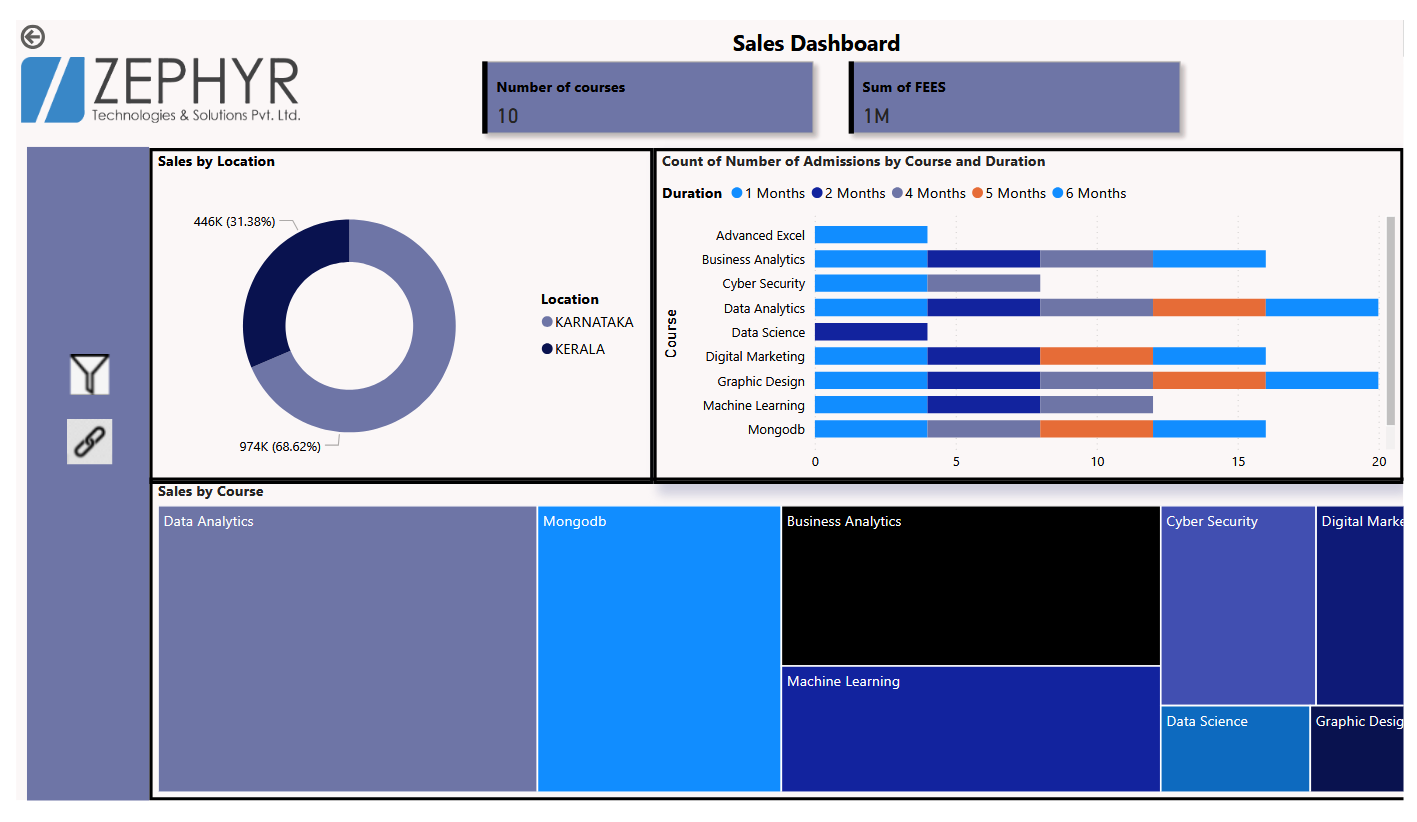

This screenshot's page, from the dashboard's own definition file:
{"tool":"powerbi","page":{"name":"Page 2","canvas":[1280,720],"ordinal":1},"visuals":[{"type":"treemap","title":"Sales by Course","fields":{"Group":["Admission.Course"],"Values":["Sum(Admission.FEES)"]},"box":[122.9,422,1199.1,297.9],"z":0},{"type":"donutChart","title":" Sales by Location","fields":{"Category":["Sheet1.Location"],"Y":["Sum(Admission.FEES)"]},"box":[122.9,117.9,465.5,310.3],"z":1000},{"type":"image","box":[0,9.9,266.9,108],"z":2000},{"type":"barChart","fields":{"Category":["Admission.Course"],"Y":["Count(Admissions by Course and Duration.Number of Admissions)"],"Series":["Admission.Duration"]},"box":[588.4,117.9,691.4,310.3],"z":3000},{"type":"shape","box":[588.4,0,300.4,41],"z":4000},{"type":"cardVisual","fields":{"Data":["Admission.Number of courses","Sum(Admission.FEES)"]},"box":[413.3,21.1,679,100.5],"z":5000},{"type":"shape","box":[10,116.7,113.3,780],"z":6000},{"type":"actionButton","box":[44.7,294.2,45.9,65.8],"z":7000},{"type":"actionButton","box":[43.4,356.2,49.7,65.8],"z":8000},{"type":"actionButton","box":[0,0,43.4,31.4],"z":10000}]}

Visuals, with their boxes in screenshot pixels (x1, y1, x2, y2):
"Sales by Course" treemap: l=149, t=475, r=1416, b=801
" Sales by Location" donutChart: l=149, t=143, r=657, b=482
image: l=15, t=26, r=306, b=143
barChart - Admission.Course x Count(Admissions by Course and Duration.Number of Admissions): l=657, t=143, r=1412, b=482
shape: l=657, t=15, r=985, b=60
cardVisual - Admission.Number of courses x Sum(Admission.FEES): l=466, t=38, r=1207, b=148
shape: l=26, t=142, r=149, b=821
actionButton: l=64, t=336, r=114, b=408
actionButton: l=62, t=404, r=116, b=475
actionButton: l=15, t=15, r=62, b=49
